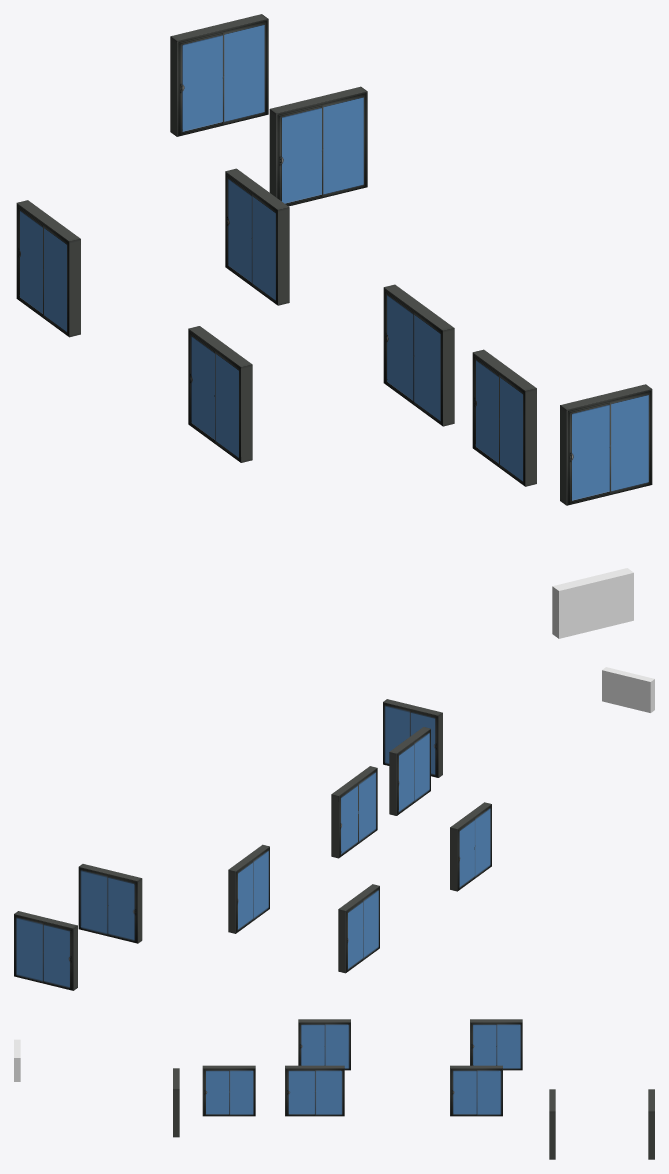
File: Prueba2.obj
3 views of the same model, one above another, from view 1: azimuth 30°, elevation 25°; view 2: azimuth 150°, elevation 25°; view 3: azimuth 270°, elevation 25° (orthographic). The views are drawn at different scales.
Visible parts, largest first — view 1: pCube6, pCube10, pCube35, pCube28, pCube29, pCube13, pCube18, pCube32, pCube41; view 2: pCube10, pCube6, pCube28, pCube29, pCube13, pCube18, pCube32, pCube35, pCube41; view 3: pCube28, pCube32, pCube29, pCube13, pCube18, pCube10, pCube6, pCube35, pCube41.
Part boxes in pixels (<box>): pCube6: <box>170,14,268,136</box>; pCube10: <box>269,86,367,206</box>; pCube35: <box>560,384,652,505</box>; pCube28: <box>383,284,454,426</box>; pCube29: <box>225,168,289,305</box>; pCube13: <box>16,200,80,337</box>; pCube18: <box>188,326,252,462</box>; pCube32: <box>472,349,536,486</box>; pCube41: <box>552,568,633,638</box>; pCube10: <box>78,864,142,943</box>; pCube6: <box>14,911,77,990</box>; pCube28: <box>331,766,377,858</box>; pCube29: <box>228,844,269,933</box>; pCube13: <box>338,884,379,973</box>; pCube18: <box>450,802,491,891</box>; pCube32: <box>389,727,430,815</box>; pCube35: <box>383,699,442,777</box>; pCube41: <box>602,667,654,712</box>; pCube28: <box>285,1065,344,1116</box>; pCube32: <box>202,1065,255,1116</box>; pCube29: <box>450,1065,502,1116</box>; pCube13: <box>470,1019,522,1070</box>; pCube18: <box>298,1019,350,1070</box>; pCube10: <box>549,1089,555,1159</box>; pCube6: <box>648,1089,654,1159</box>; pCube35: <box>173,1068,179,1137</box>; pCube41: <box>14,1039,20,1081</box>.
Size of the model in its own units: 4.12 by 1 by 12.13.
Materials: 9 (9 with a texture image).
